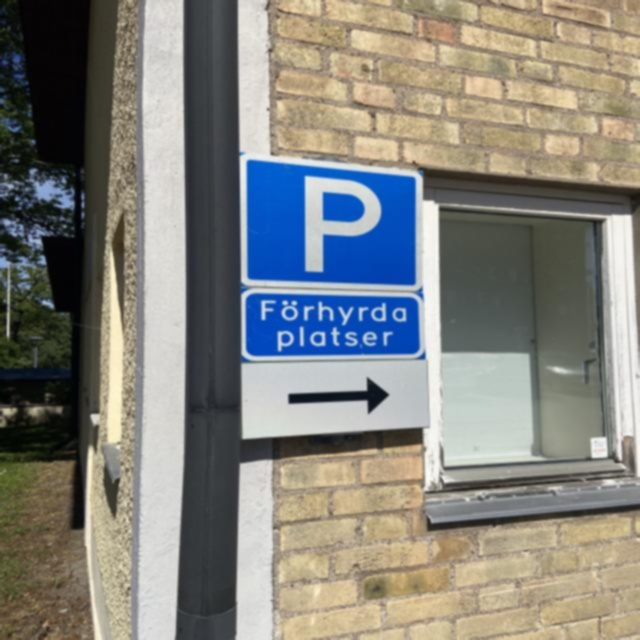P-skylt: (235, 149, 426, 294)
